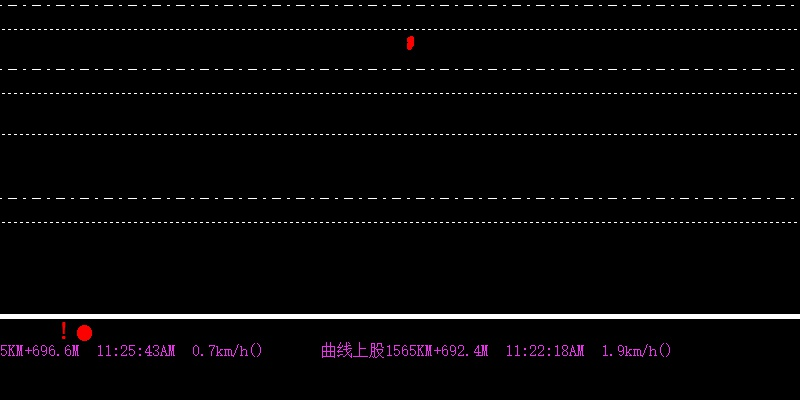circle: (75, 322, 93, 342)
face_down: (404, 26, 415, 51)
